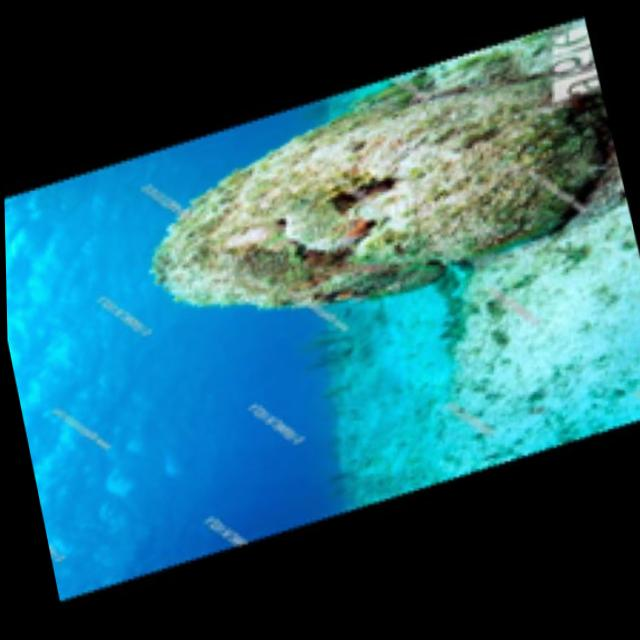Dead Coral: (65, 0, 607, 473)
